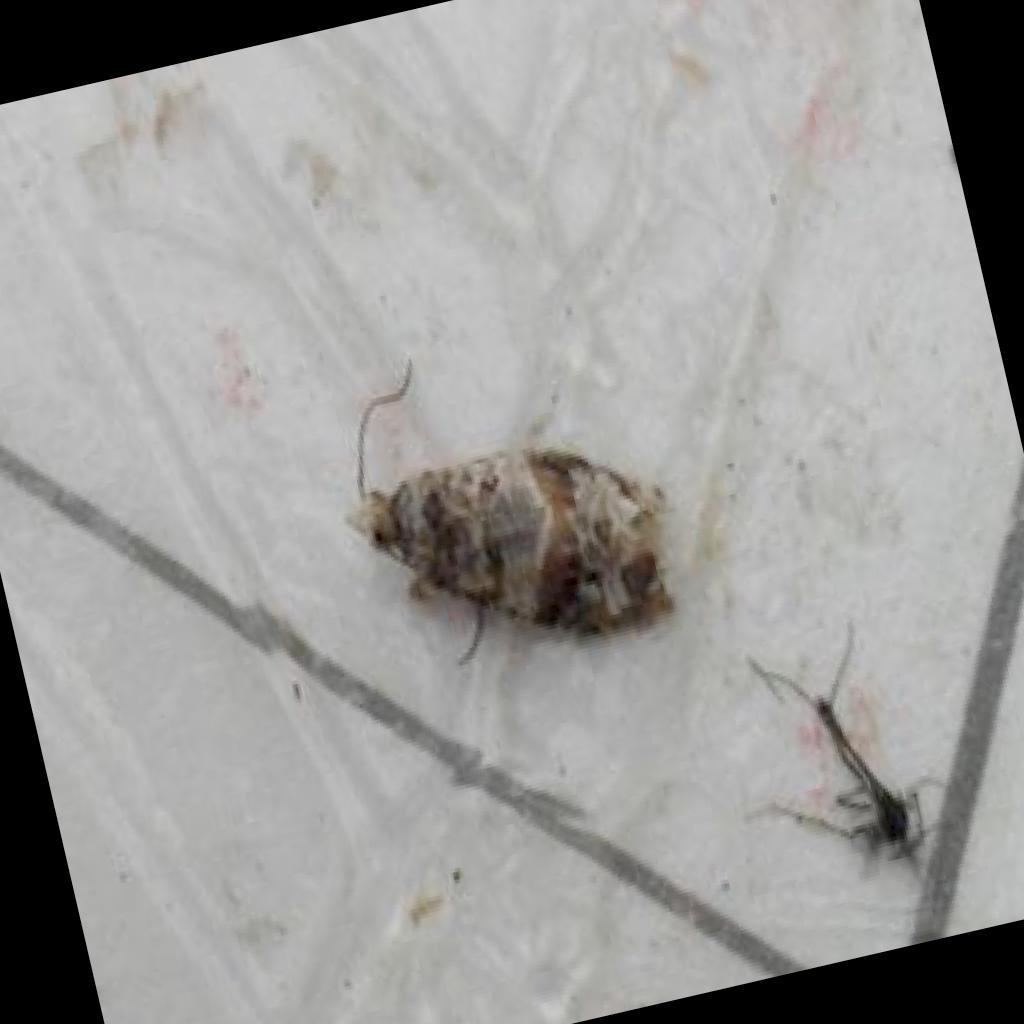grape_moth: (350, 353, 679, 670)
